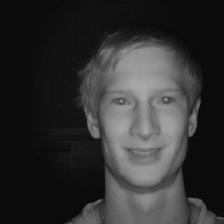happy: (74, 20, 208, 195)
